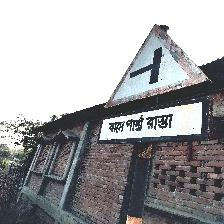Side-road-left: (100, 24, 213, 147)
